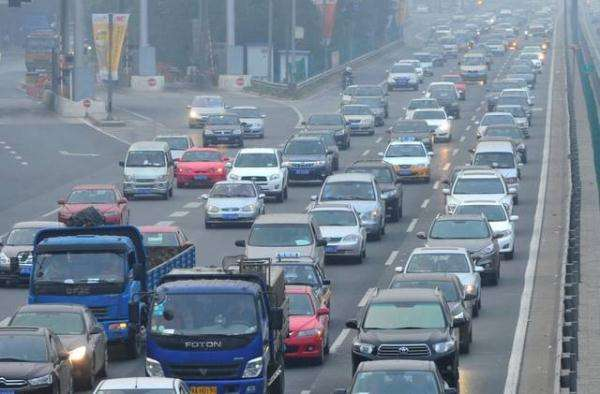car: (234, 212, 329, 280), (203, 181, 266, 227), (380, 141, 434, 181)
suv: (414, 211, 505, 286), (309, 174, 388, 238), (443, 169, 519, 225), (277, 132, 334, 183)
truck: (11, 225, 197, 360), (124, 255, 289, 394), (119, 140, 176, 199)
